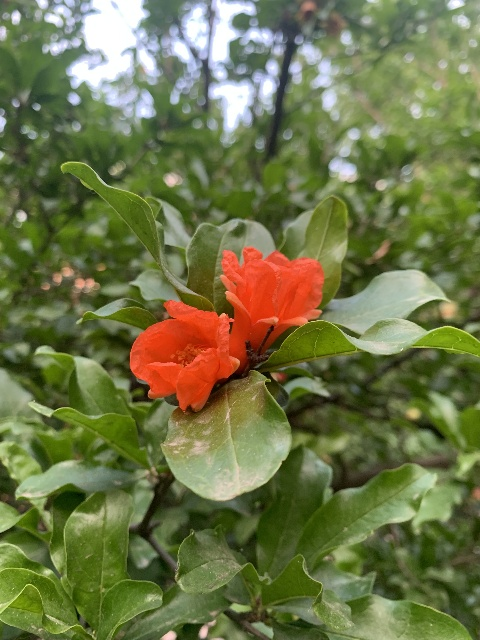flower: (219, 245, 325, 370), (130, 300, 244, 411)
